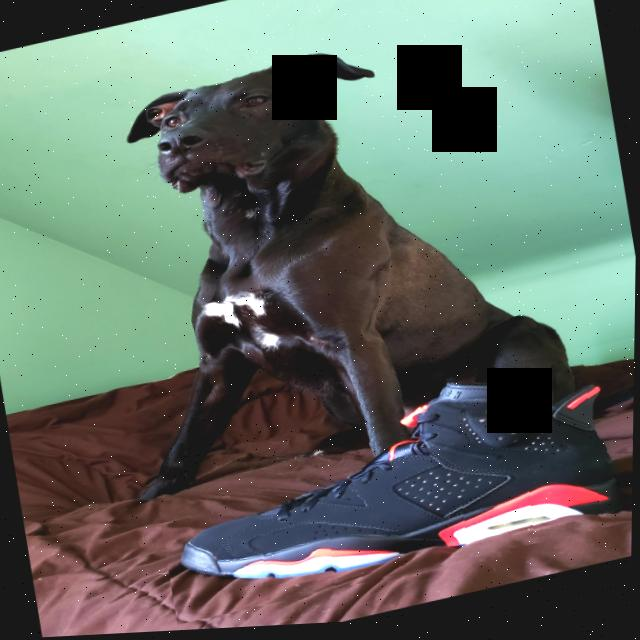shoe: (147, 335, 636, 628)
